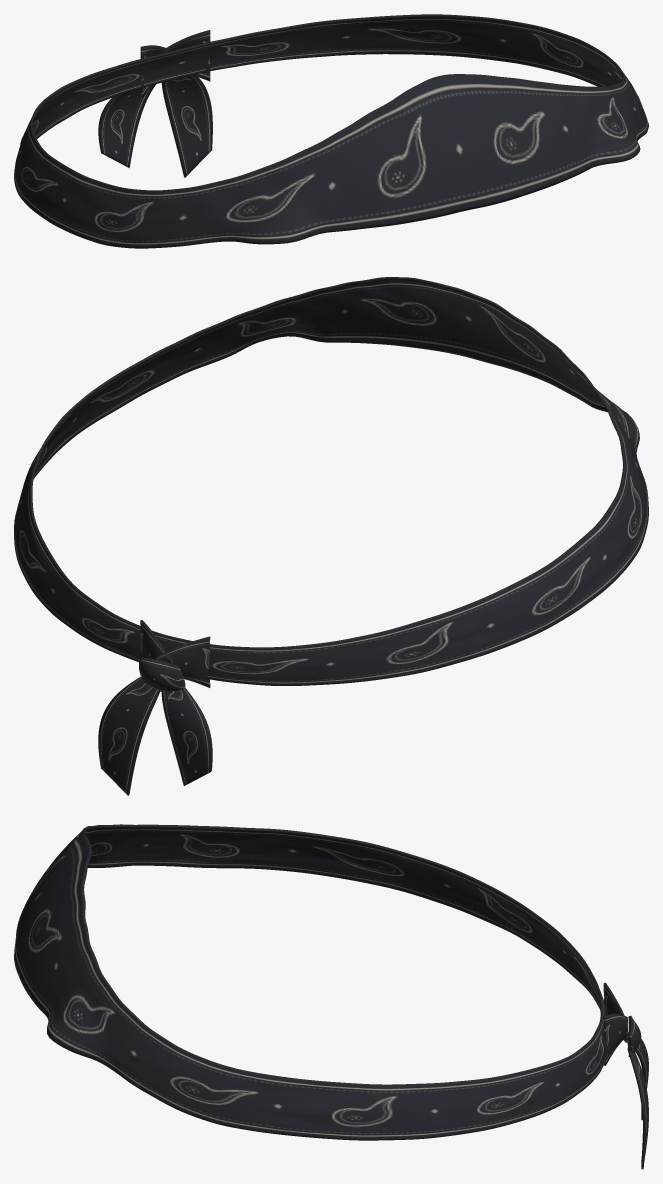
The model's file is Feminine-space-buns-bandana.glb.
The picture shows the model from 3 angles, top to bottom: view 1: azimuth 30°, elevation 25°; view 2: azimuth 150°, elevation 25°; view 3: azimuth 270°, elevation 25°; orthographic projection.
Parts seen in each view (by area): view 1: Bandana / folded wrap, Bandana / hemmed tail 1, Bandana / hemmed tail -1, Bandana / gathered fold 1, Bandana / gathered fold -1; view 2: Bandana / folded wrap, Bandana / hemmed tail 1, Bandana / hemmed tail -1, Bandana / gathered fold -1, Bandana / rounded knot fold; view 3: Bandana / folded wrap, Bandana / hemmed tail 1, Bandana / gathered fold 1.
Part boxes in pixels (<box>): Bandana / folded wrap: <box>14,14,648,248</box>; Bandana / hemmed tail 1: <box>161,75,212,177</box>; Bandana / hemmed tail -1: <box>98,84,156,168</box>; Bandana / gathered fold 1: <box>166,30,210,81</box>; Bandana / gathered fold -1: <box>140,45,166,97</box>; Bandana / folded wrap: <box>14,277,648,685</box>; Bandana / hemmed tail 1: <box>98,676,160,795</box>; Bandana / hemmed tail -1: <box>161,688,212,785</box>; Bandana / gathered fold -1: <box>156,636,210,687</box>; Bandana / rounded knot fold: <box>139,657,185,691</box>; Bandana / folded wrap: <box>14,824,607,1140</box>; Bandana / hemmed tail 1: <box>627,1040,648,1169</box>; Bandana / gathered fold 1: <box>603,1013,628,1065</box>.
Size of the model in its own units: 0.7759 by 0.42 by 0.7845.
Materials: 1 (1 with a texture image).
